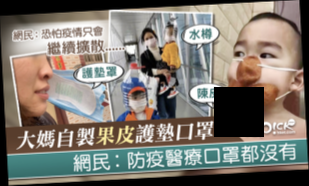with_mask: (226, 35, 293, 108), (125, 91, 148, 111), (143, 33, 157, 48), (163, 27, 177, 42)
without_mask: (13, 52, 54, 117)
